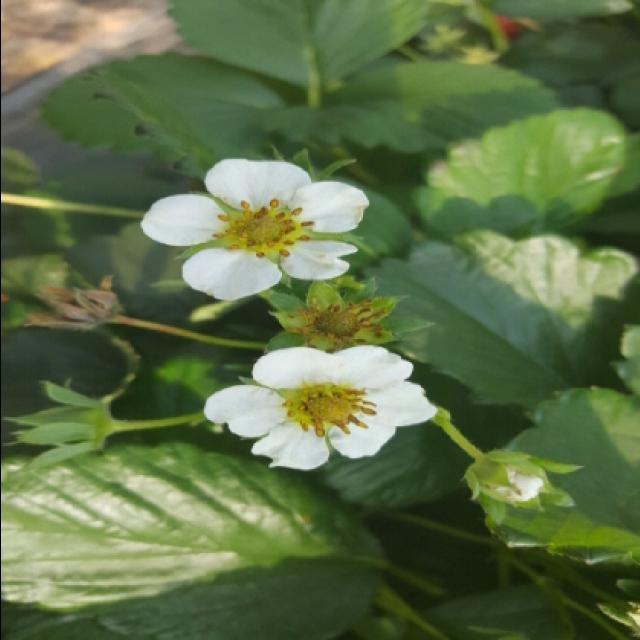Blossom Blight: (209, 196, 317, 263), (277, 380, 381, 440), (295, 293, 390, 356)
